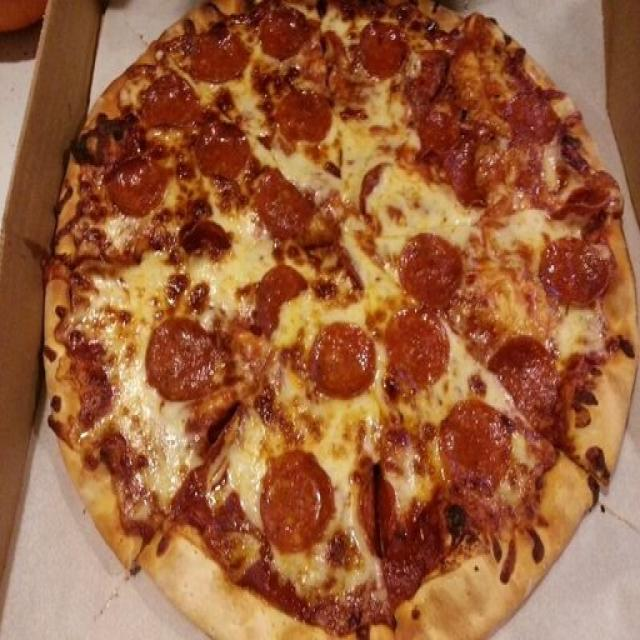Cheese: (109, 338, 151, 478), (358, 140, 417, 234), (480, 206, 531, 312), (192, 231, 260, 300), (91, 258, 167, 315), (334, 416, 383, 480), (312, 146, 348, 208), (352, 86, 400, 126)
Pepperoni: (148, 309, 218, 406), (259, 451, 331, 544), (485, 334, 561, 412), (439, 398, 506, 486), (379, 314, 448, 388), (313, 313, 371, 399), (542, 238, 610, 304), (400, 227, 462, 299), (193, 113, 249, 192), (426, 117, 485, 190), (100, 154, 168, 215), (279, 81, 332, 142), (258, 260, 308, 324), (186, 32, 249, 80), (507, 77, 552, 143), (263, 171, 309, 232), (142, 80, 198, 124), (361, 23, 405, 78), (266, 7, 306, 63)
Pizza: (45, 0, 638, 640)
